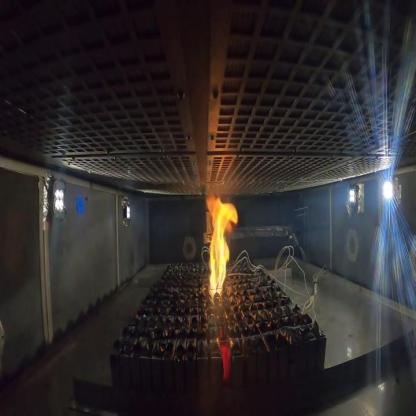fire: (204, 194, 240, 298)
